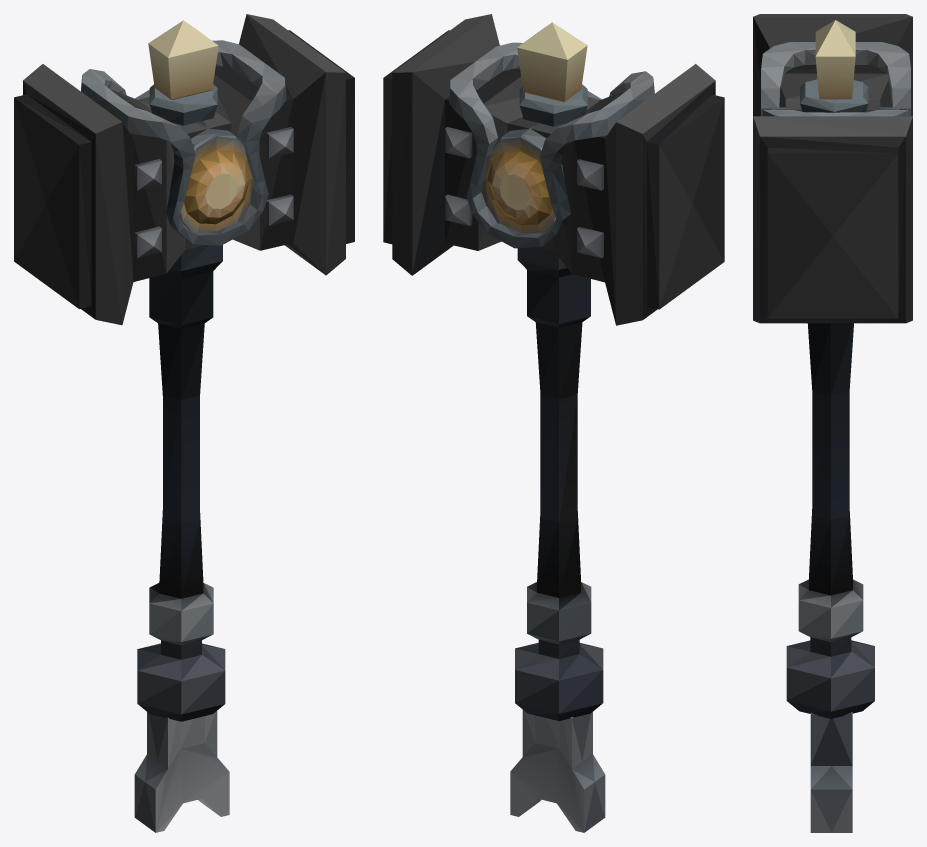
The model's file is weapon_hammer_silver_3.fbx.
3 views of the same model, side by side, from view 1: azimuth 30°, elevation 25°; view 2: azimuth 150°, elevation 25°; view 3: azimuth 270°, elevation 25° (orthographic).
Parts seen in each view (by area): view 1: weapon_hammer_silver_3; view 2: weapon_hammer_silver_3; view 3: weapon_hammer_silver_3.
Boxes of the visible parts, x1,y1,x2,y2 form: weapon_hammer_silver_3: [14, 14, 354, 832]; weapon_hammer_silver_3: [383, 14, 724, 832]; weapon_hammer_silver_3: [753, 14, 912, 832].
Size of the model in its own units: 1.08 by 2.96 by 0.5371.
